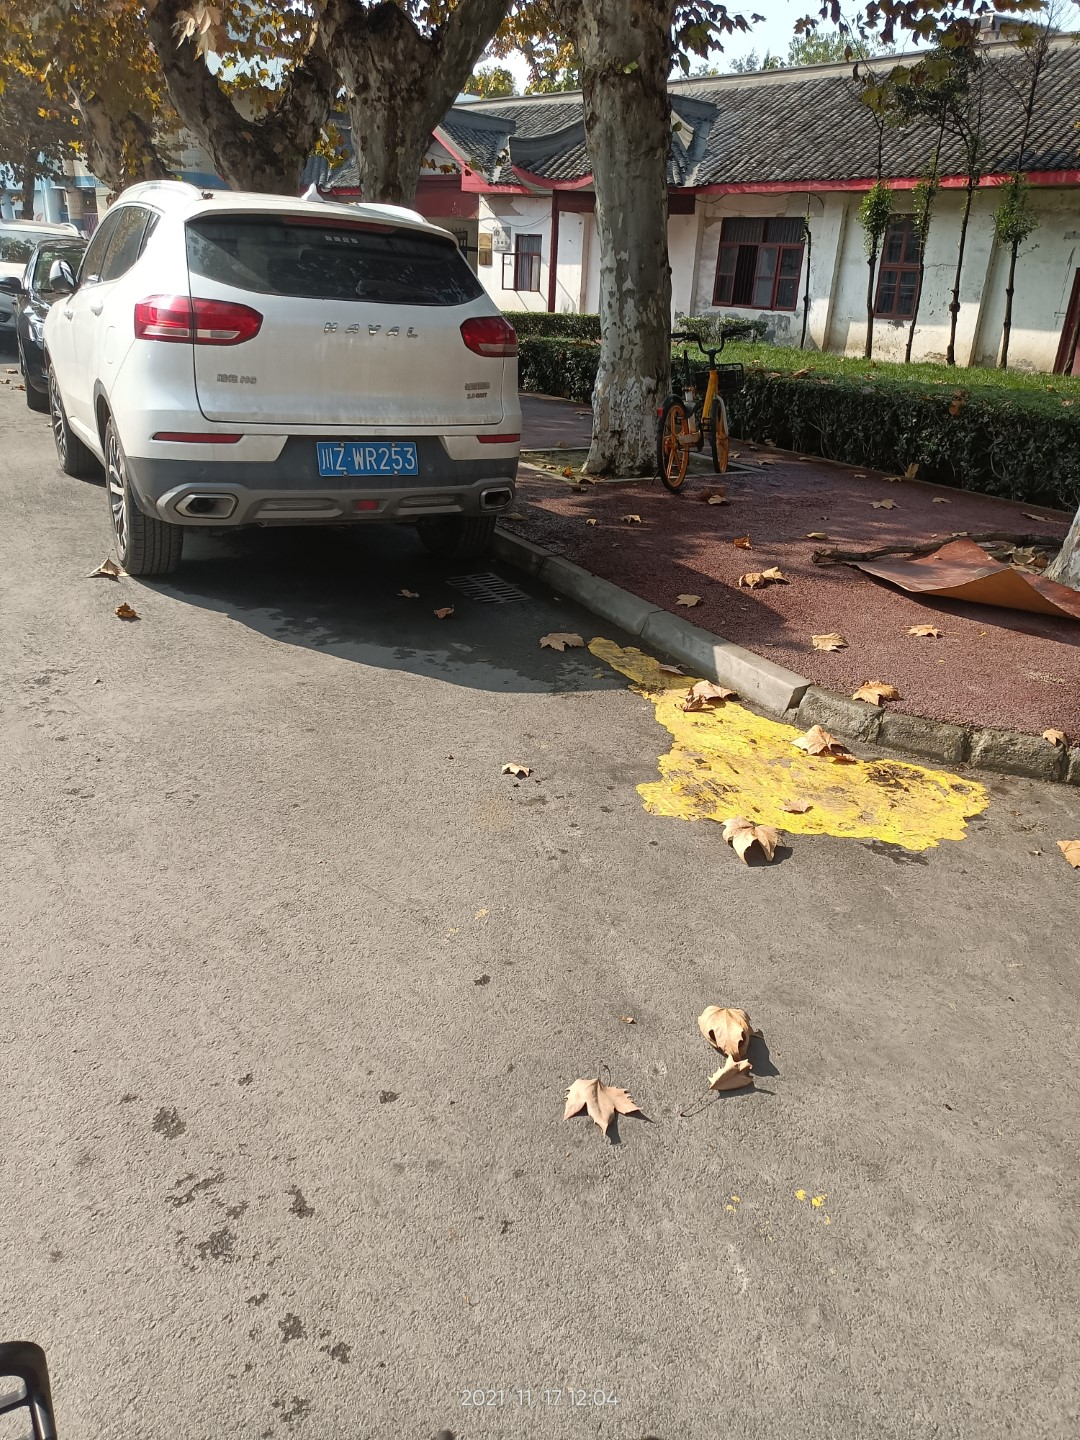plate: (317, 440, 417, 477)
